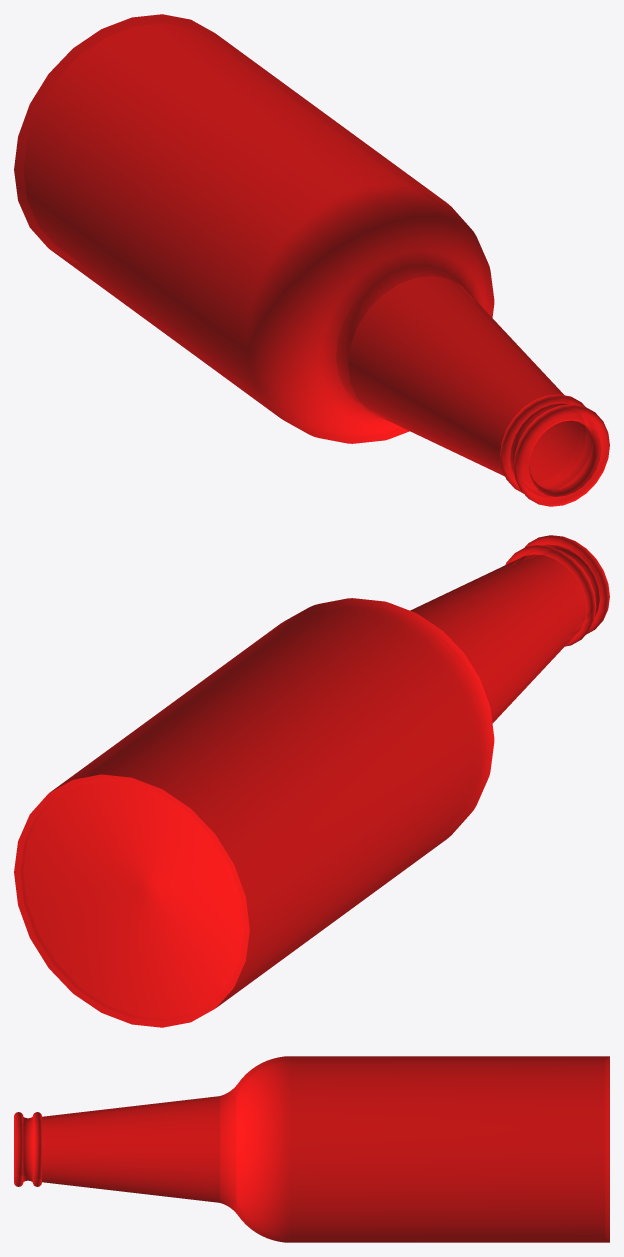
The model's file is model_scale.obj.
The picture shows the model from 3 angles, top to bottom: view 1: azimuth 30°, elevation 25°; view 2: azimuth 150°, elevation 25°; view 3: azimuth 270°, elevation 25°; orthographic projection. The views are drawn at different scales.
Visible parts, largest first — view 1: mesh1_mesh1-geometry; view 2: mesh1_mesh1-geometry; view 3: mesh1_mesh1-geometry.
Boxes of the visible parts, x1=… form: mesh1_mesh1-geometry: x1=14, y1=14, x2=609, y2=506; mesh1_mesh1-geometry: x1=14, y1=535, x2=609, y2=1027; mesh1_mesh1-geometry: x1=14, y1=1056, x2=609, y2=1242.
Bounding box in the file's own units: 0.0762 × 0.0762 × 0.2423.
